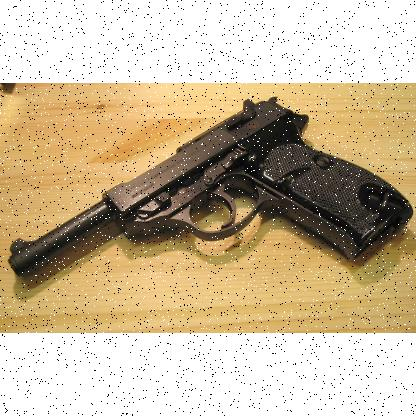gun: (7, 93, 412, 279)
